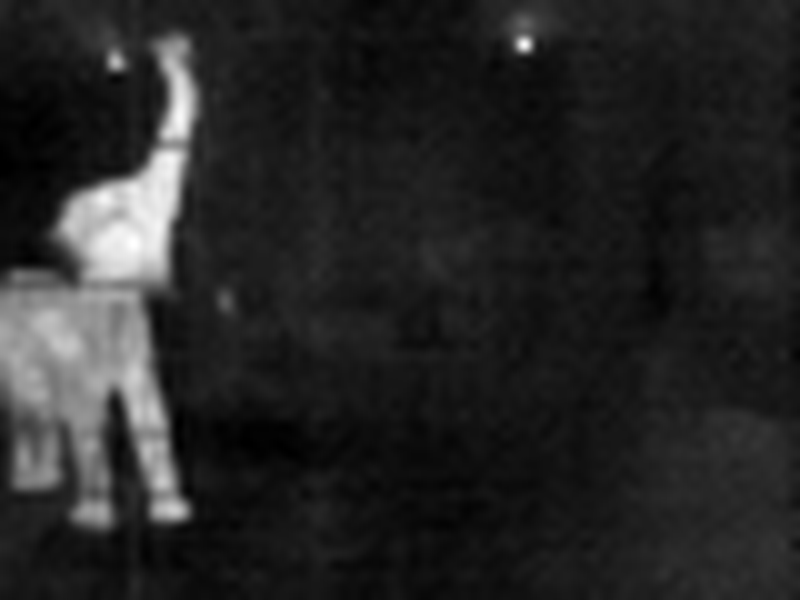elephant: (7, 33, 200, 540)
